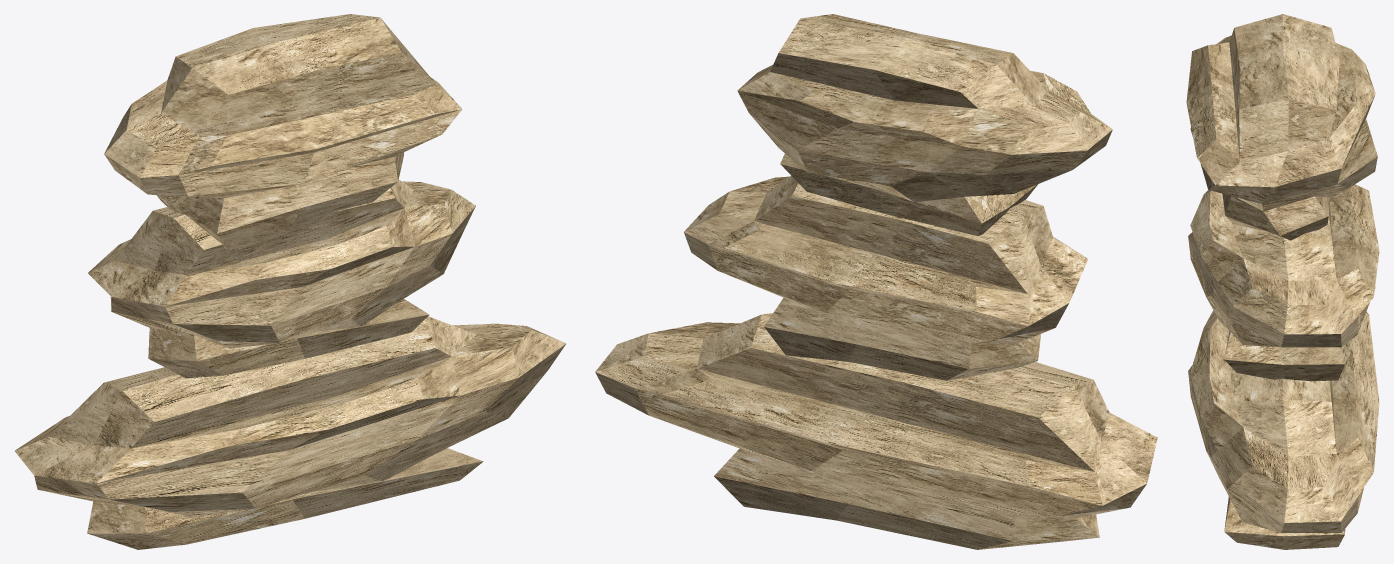
Rendered from rock-set-desert-02.dae.
3 views of the same model, side by side, from view 1: azimuth 30°, elevation 25°; view 2: azimuth 150°, elevation 25°; view 3: azimuth 270°, elevation 25° (orthographic). The views are drawn at different scales.
Parts seen in each view (by area): view 1: Cube_010; view 2: Cube_010; view 3: Cube_010.
Boxes of the visible parts, x1,y1,x2,y2 form: Cube_010: [15, 14, 566, 549]; Cube_010: [595, 14, 1157, 549]; Cube_010: [1186, 14, 1379, 549].
Size of the model in its own units: 1.97 by 0.6758 by 1.69.
